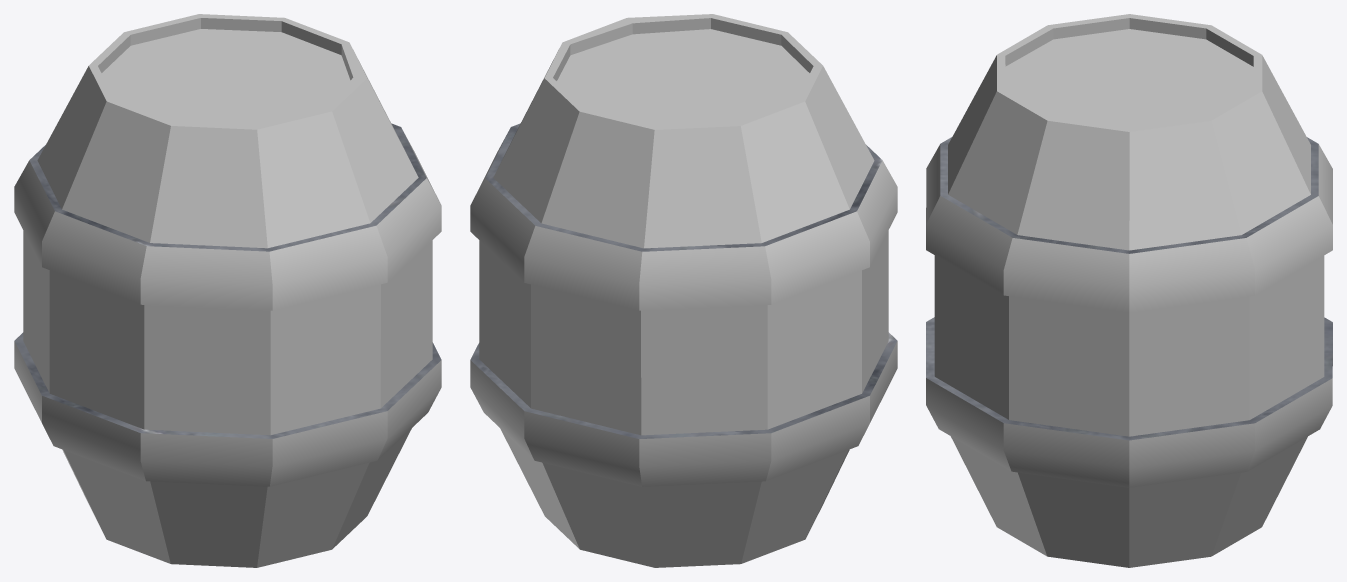
Rendered from Barrel.FBX.
The picture shows the model from 3 angles, left to right: view 1: azimuth 30°, elevation 25°; view 2: azimuth 150°, elevation 25°; view 3: azimuth 270°, elevation 25°; orthographic projection.
Visible parts, largest first — view 1: pCylinder1; view 2: pCylinder1; view 3: pCylinder1.
Part boxes in pixels (x1,y1,x2,y2): pCylinder1: [14, 14, 441, 567]; pCylinder1: [470, 14, 897, 567]; pCylinder1: [926, 14, 1332, 567].
Size of the model in its own units: 20.38 by 22.94 by 19.39.
